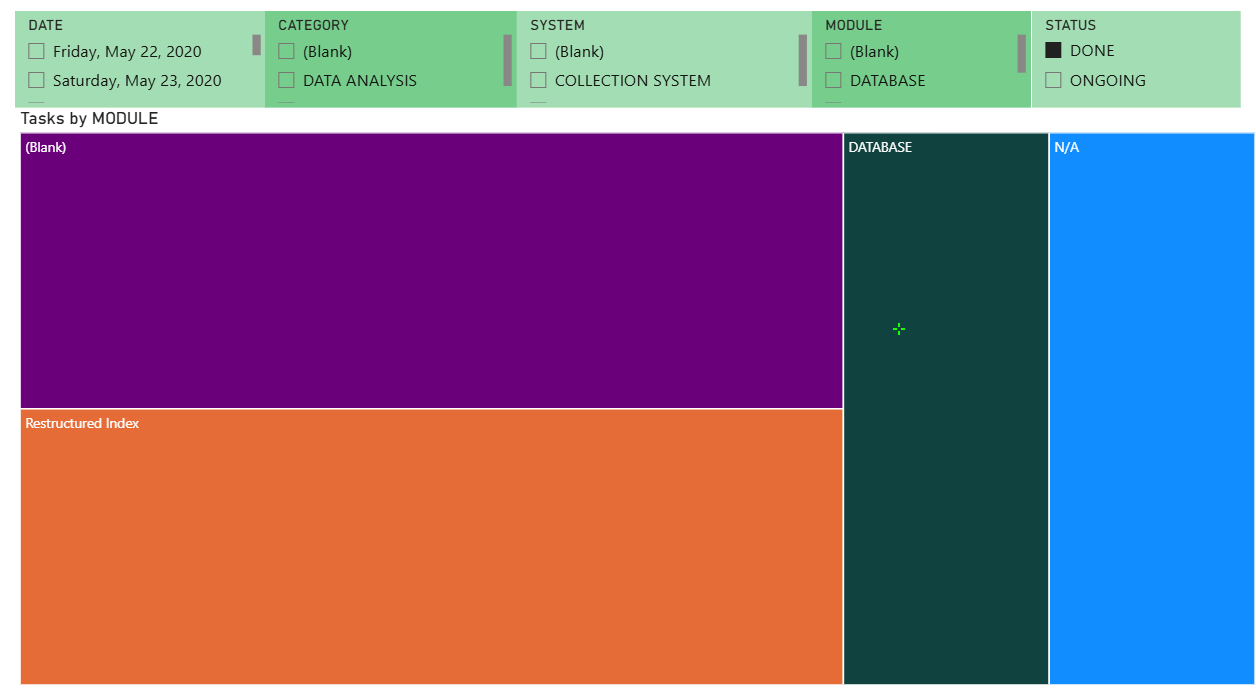

Layout of this report page (visuals, bound fields, positions):
{"tool":"powerbi","page":{"name":"Module Analysis","canvas":[1280,720],"ordinal":2},"visuals":[{"type":"treemap","fields":{"Group":["ITDAR.MODULE"],"Values":["Calendar.Total Tasks"]},"box":[33.6,154.5,1211.1,566.1],"z":0},{"type":"slicer","fields":{"Values":["ITDAR.DATE"]},"box":[33.6,60.5,243.6,94.1],"z":1000},{"type":"slicer","fields":{"Values":["ITDAR.CATEGORY"]},"box":[277.2,60.5,245.2,94.1],"z":2000},{"type":"slicer","fields":{"Values":["ITDAR.SYSTEM"]},"box":[522.4,60.5,287.2,94.1],"z":3000},{"type":"slicer","fields":{"Values":["ITDAR.MODULE"]},"box":[809.7,60.5,213.3,94.1],"z":4000},{"type":"slicer","fields":{"Values":["ITDAR.STATUS"]},"box":[1023,60.5,203.3,94.1],"z":5000}]}

Visuals, with their boxes in screenshot pixels (x1, y1, x2, y2), scaled from the page's 1280x720 canvas onto the 1256x688 screenshot:
treemap - ITDAR.MODULE x Calendar.Total Tasks: 33 148 1221 687
slicer - ITDAR.DATE: 33 58 272 148
slicer - ITDAR.CATEGORY: 272 58 513 148
slicer - ITDAR.SYSTEM: 513 58 794 148
slicer - ITDAR.MODULE: 795 58 1004 148
slicer - ITDAR.STATUS: 1004 58 1203 148
